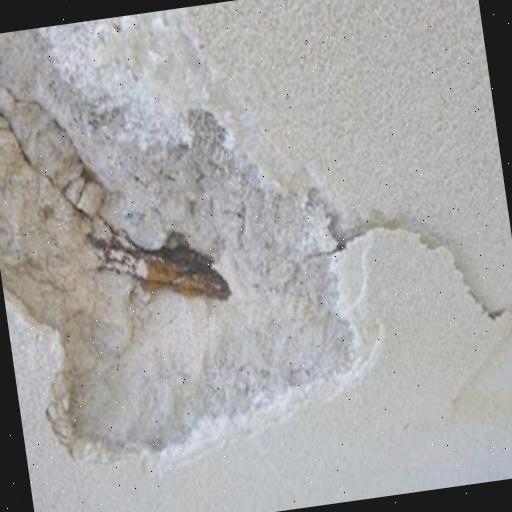spalling: (0, 27, 365, 468)
